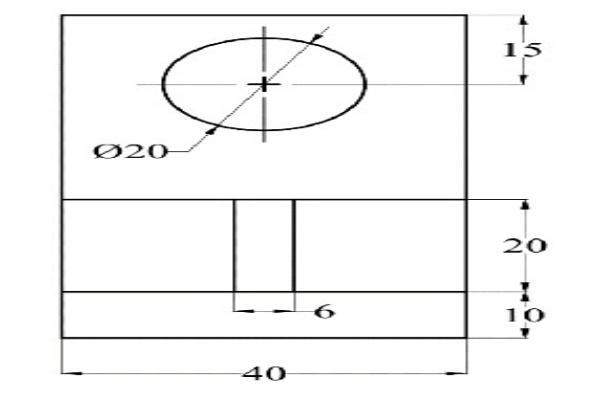dimensions: (89, 139, 172, 166), (499, 227, 552, 257), (237, 358, 289, 387), (502, 37, 545, 67), (501, 305, 551, 328), (304, 300, 344, 326)
